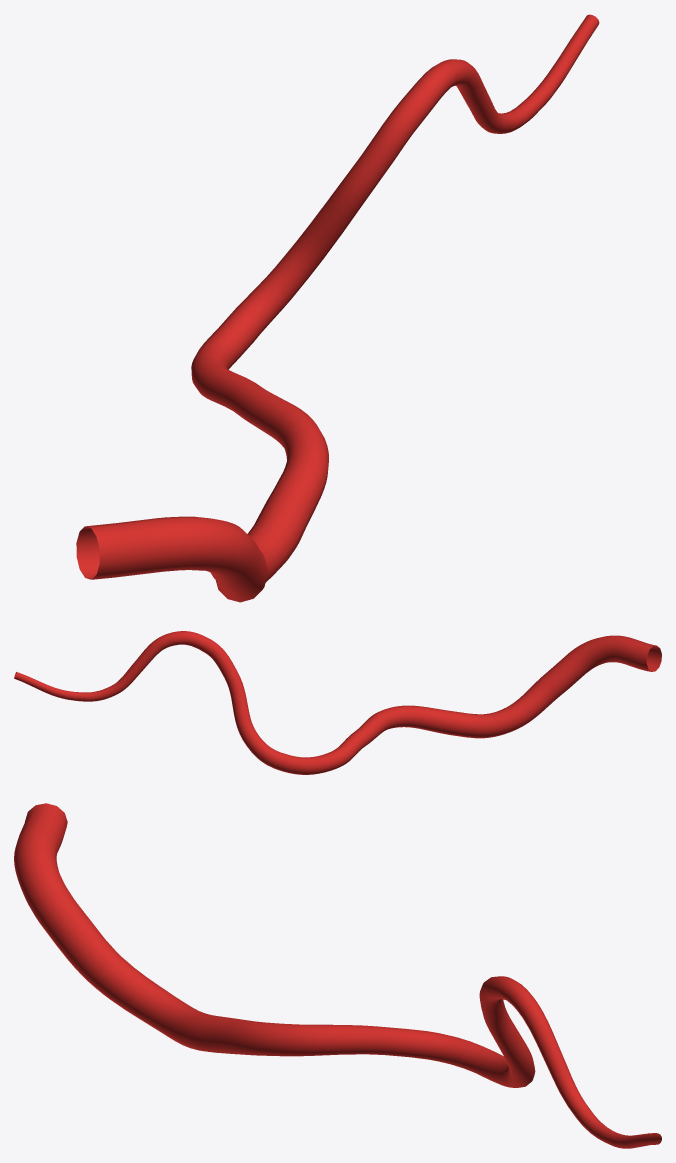
The model's file is circulatorio-anterior-inferior-cerebellar-artery-l.glb.
3 views of the same model, one above another, from view 1: azimuth 30°, elevation 25°; view 2: azimuth 150°, elevation 25°; view 3: azimuth 270°, elevation 25° (orthographic). The views are drawn at different scales.
Visible parts, largest first — view 1: Anterior inferior cerebellar artery.l; view 2: Anterior inferior cerebellar artery.l; view 3: Anterior inferior cerebellar artery.l.
Boxes of the visible parts, x1,y1,x2,y2 form: Anterior inferior cerebellar artery.l: (76,14,599,602); Anterior inferior cerebellar artery.l: (14,631,661,774); Anterior inferior cerebellar artery.l: (14,803,661,1148).
Size of the model in its own units: 0.0346 by 0.00983 by 0.0273.
